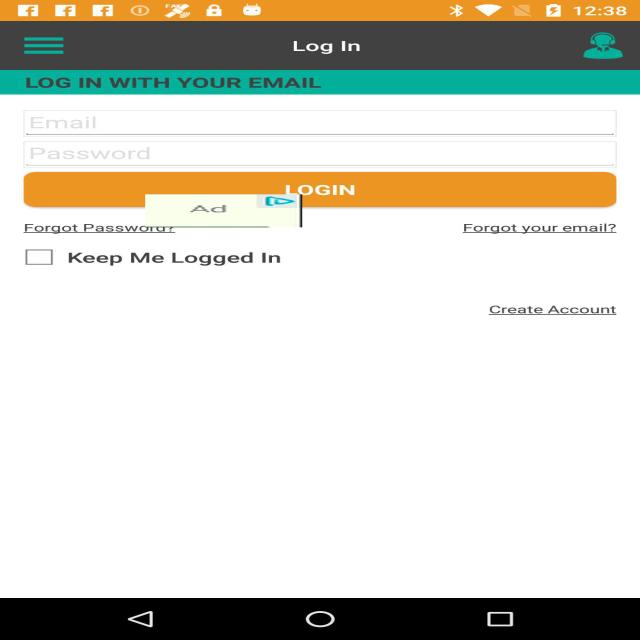sneaking: (145, 195, 302, 228)
